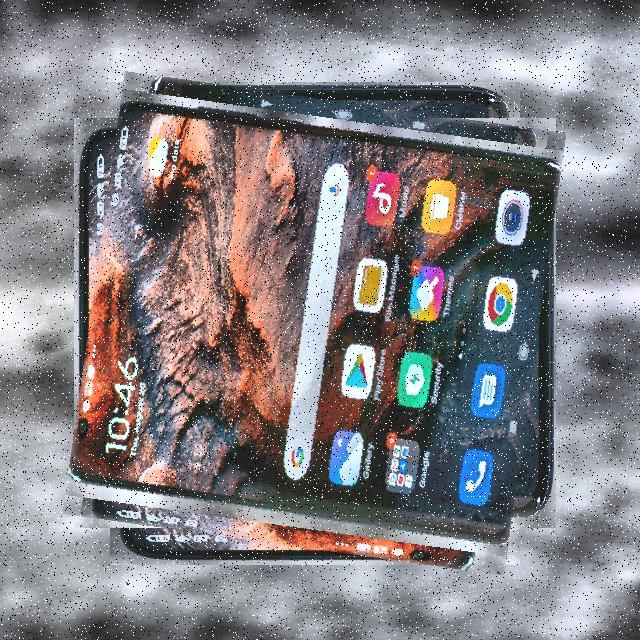Phone: (78, 86, 552, 561)
